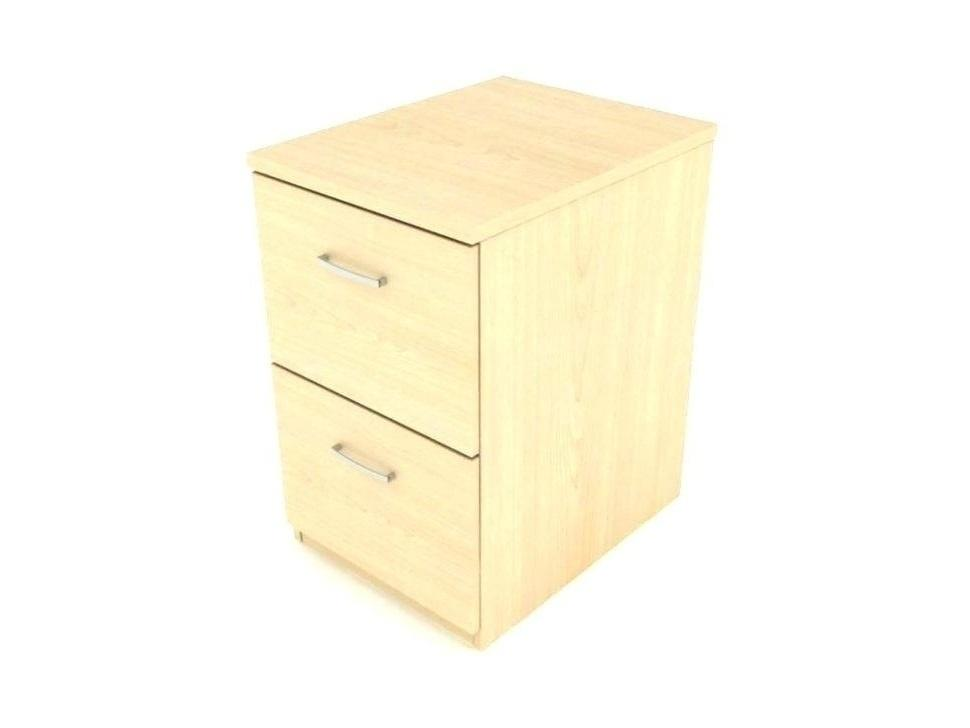cabinet_door: (272, 202, 482, 384), (288, 394, 483, 567)
handle: (327, 441, 405, 492), (313, 251, 391, 297)
